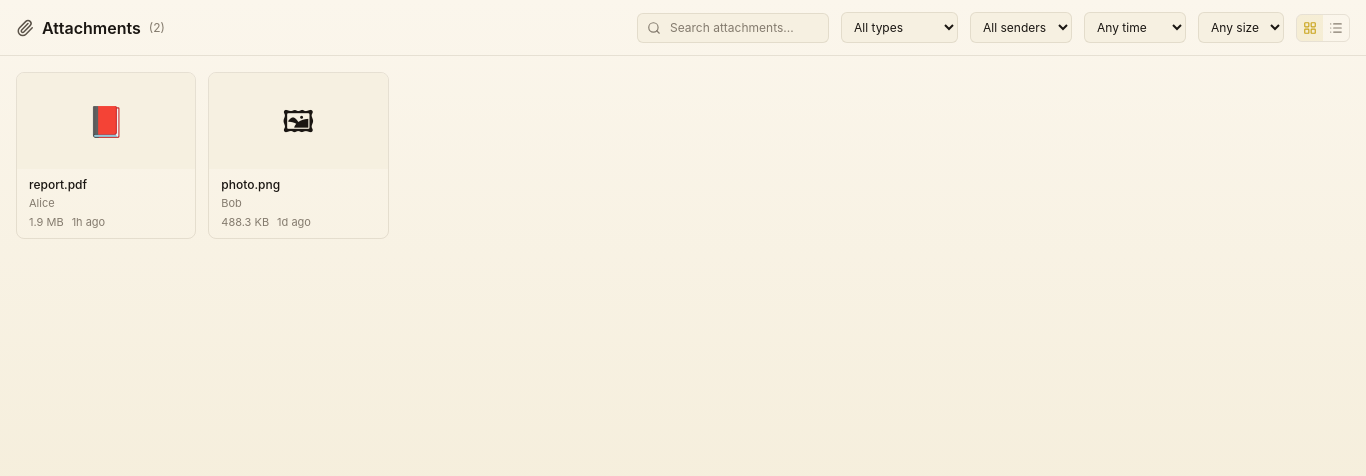
AttachmentLibrary › runs the search in the DB across the whole archive
Expected: the text "report.pdf" is shown, [29,177,87,192]
Type "report" into the field with placeholder "Search attachments...". click: (733, 28)
box: [637,12,829,42]
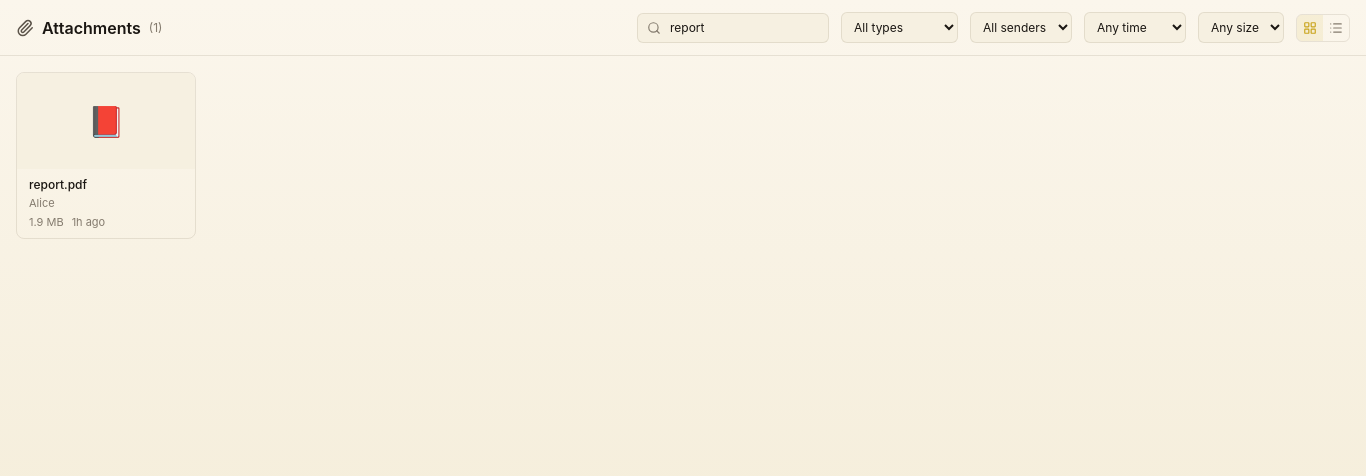
Expected: the text "report.pdf" is shown, [29,177,87,192]
Result: the button "photo.png" is gone
